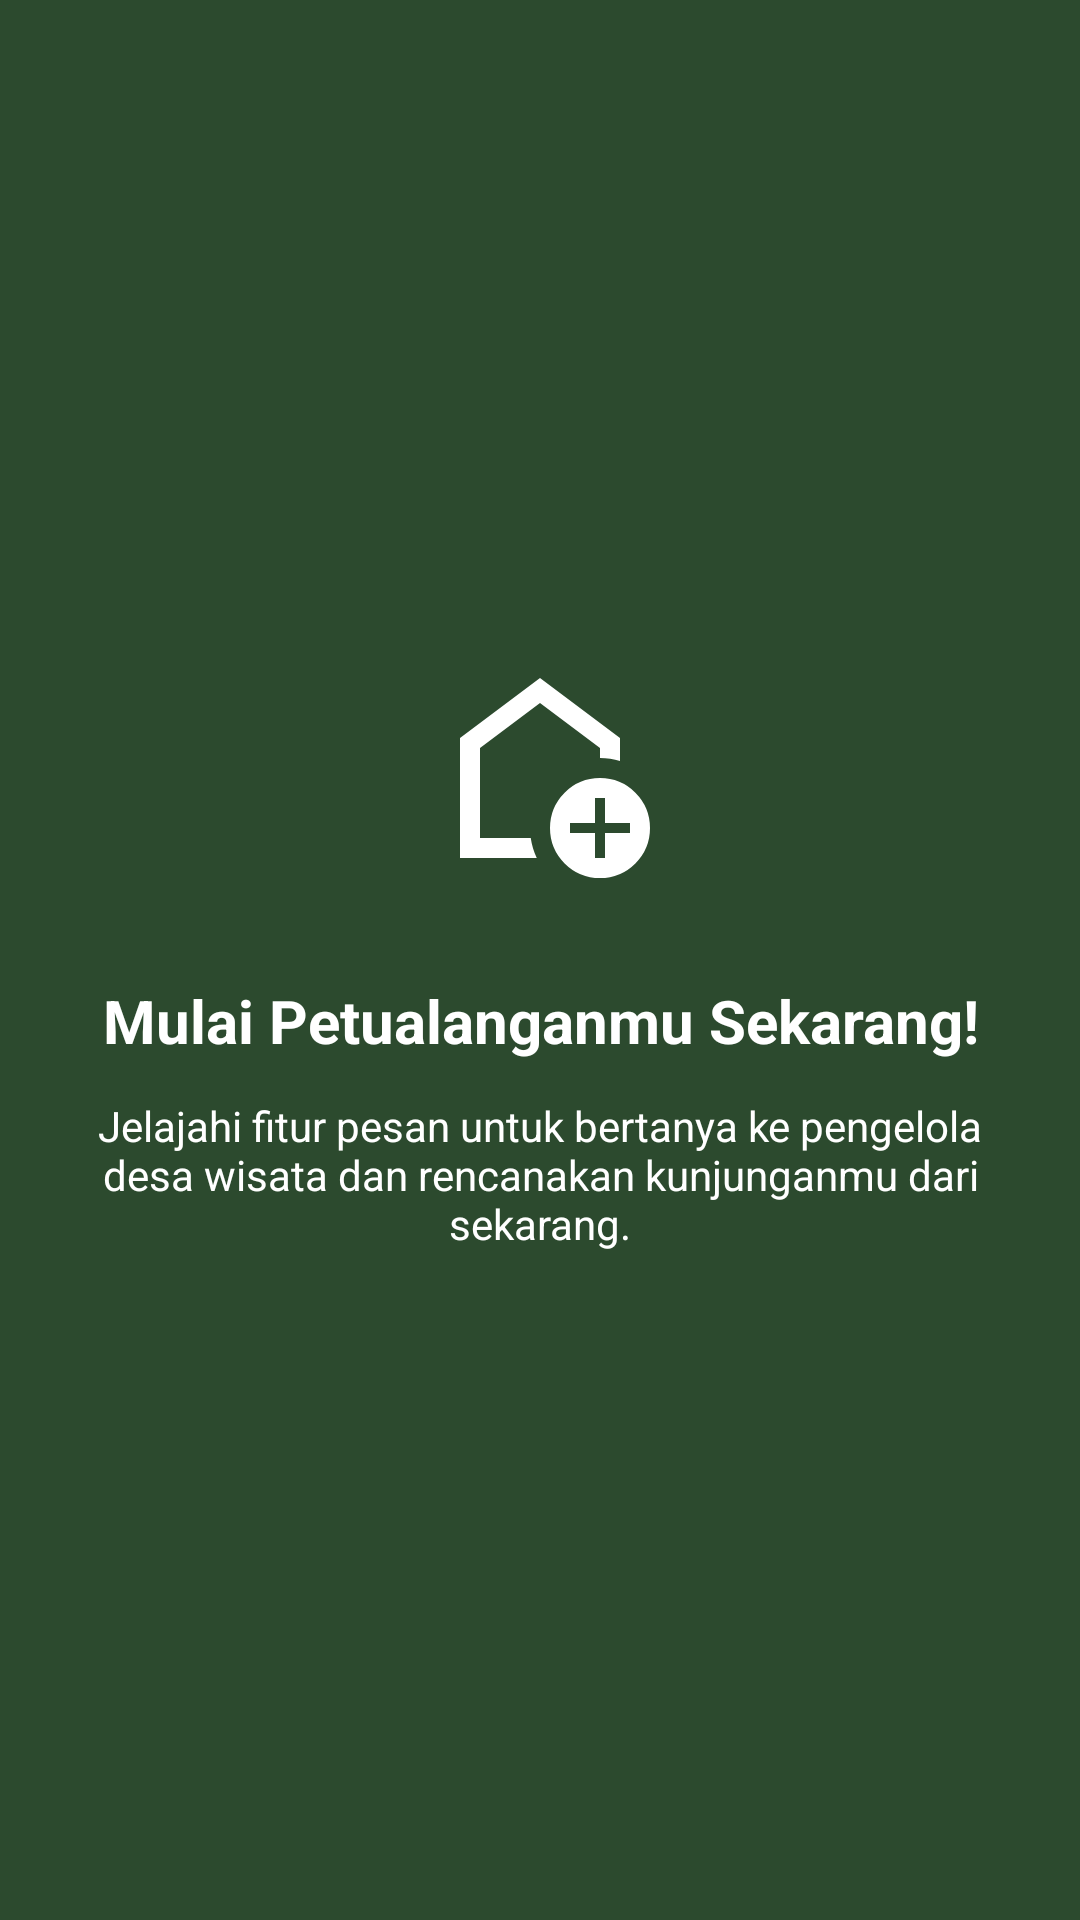

Screen size 1080×1920. Icon name, then its box in pixels as (x1, y1, x2, y2):
home: (460, 678, 650, 878)
